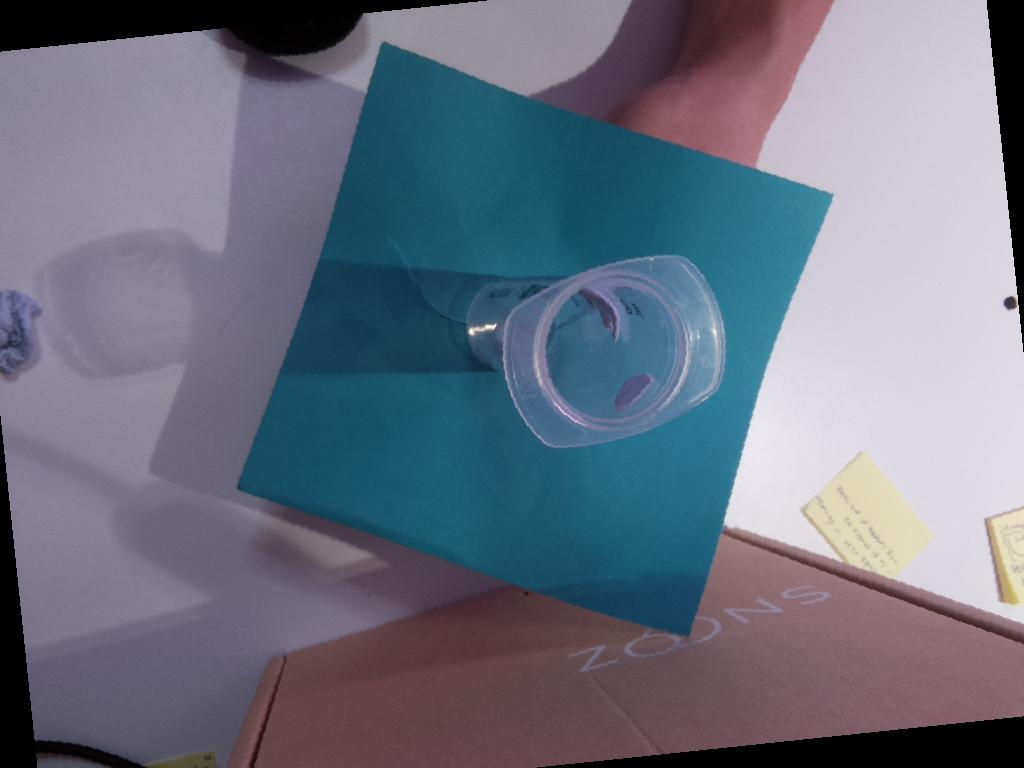dirty: (502, 256, 727, 448)
